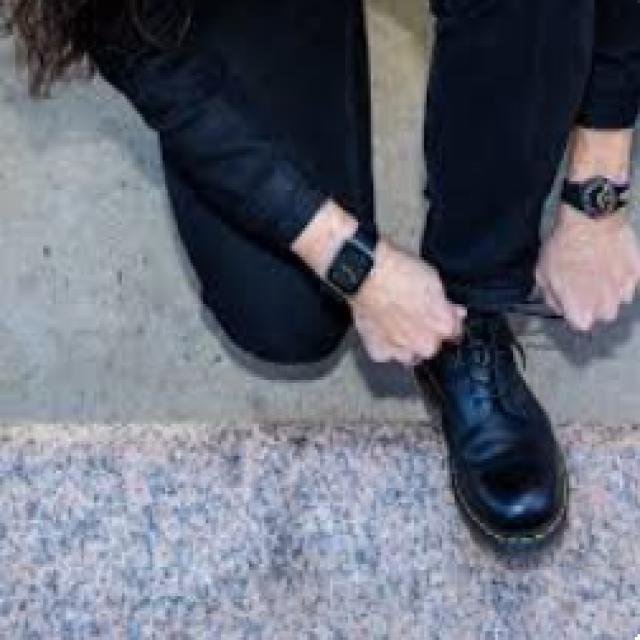Watch: (325, 214, 378, 306), (558, 174, 632, 217)
